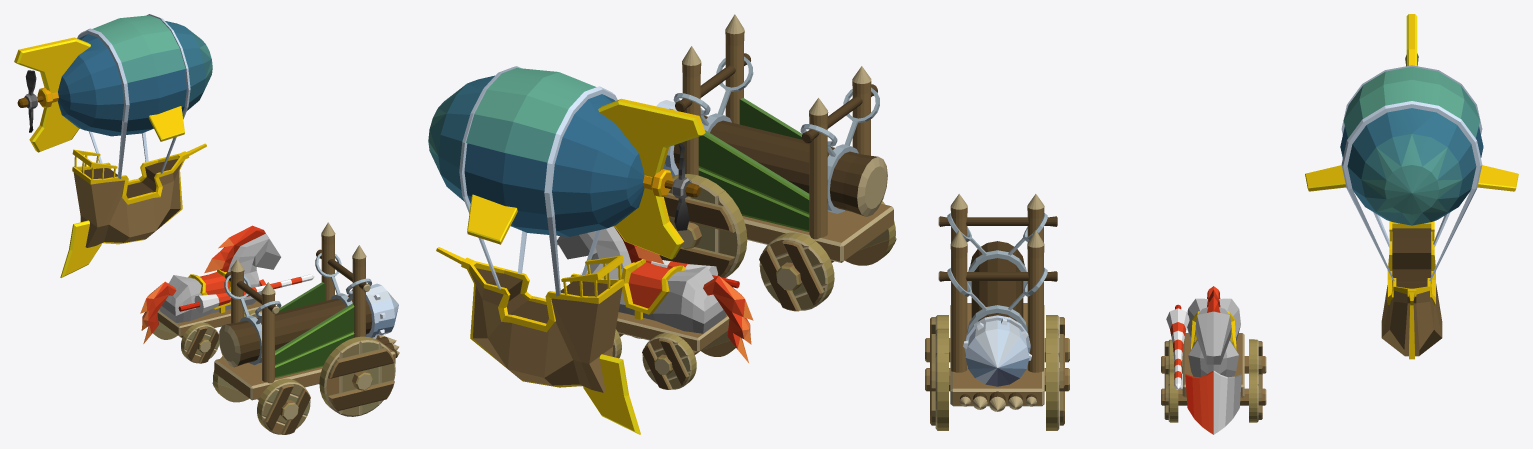
Rendered from 4_Minions.fbx.
The picture shows the model from 3 angles, left to right: view 1: azimuth 30°, elevation 25°; view 2: azimuth 150°, elevation 25°; view 3: azimuth 270°, elevation 25°; orthographic projection. The views are drawn at different scales.
Visible parts, largest first — view 1: Airship, Ram, Knight, Wheels Front, Wheels Back, Wheels Back.001, Prop; view 2: Airship, Ram, Knight, Wheels Back, Wheels Front, Wheels Back.001, Prop; view 3: Airship, Ram, Knight, Wheels Front, Wheels Front.001, Wheels Back.001, Wheels Back.
Boxes of the visible parts, x1=… form: Airship: x1=14, y1=14, x2=212, y2=277; Ram: x1=214, y1=222, x2=399, y2=400; Knight: x1=140, y1=225, x2=314, y2=343; Wheels Front: x1=319, y1=336, x2=395, y2=416; Wheels Back: x1=212, y1=356, x2=310, y2=434; Wheels Back.001: x1=153, y1=321, x2=219, y2=363; Prop: x1=24, y1=70, x2=37, y2=132; Airship: x1=428, y1=66, x2=705, y2=434; Ram: x1=656, y1=14, x2=893, y2=262; Knight: x1=556, y1=226, x2=753, y2=362; Wheels Back: x1=759, y1=201, x2=896, y2=311; Wheels Front: x1=659, y1=174, x2=747, y2=277; Wheels Back.001: x1=642, y1=331, x2=735, y2=389; Prop: x1=672, y1=143, x2=691, y2=230; Airship: x1=1305, y1=14, x2=1518, y2=359; Ram: x1=938, y1=194, x2=1057, y2=411; Knight: x1=1166, y1=286, x2=1244, y2=434; Wheels Front: x1=925, y1=328, x2=1069, y2=430; Wheels Front.001: x1=1161, y1=371, x2=1266, y2=422; Wheels Back.001: x1=1161, y1=339, x2=1266, y2=374; Wheels Back: x1=925, y1=315, x2=1069, y2=362.
Size of the model in its own units: 406 by 471 by 781.
